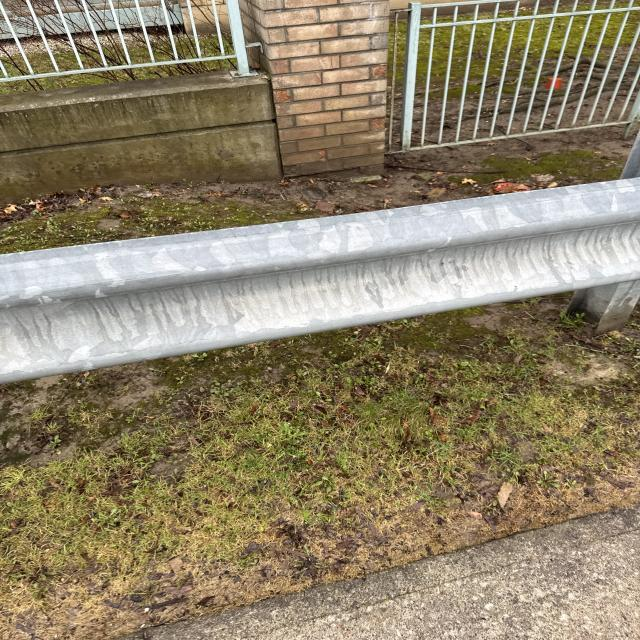Guard rail: (30, 182, 640, 368)
